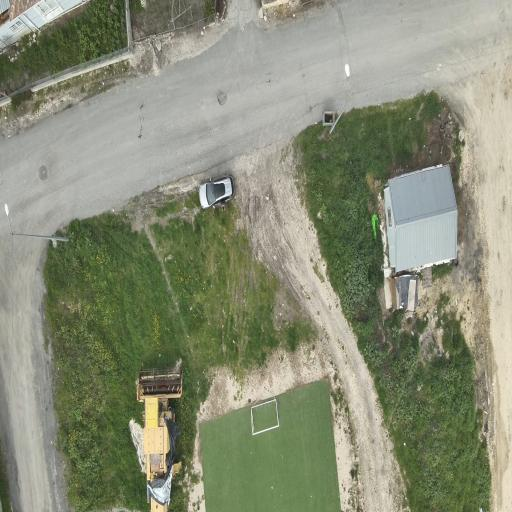car: (199, 175, 234, 208)
harvester: (137, 367, 182, 511)
